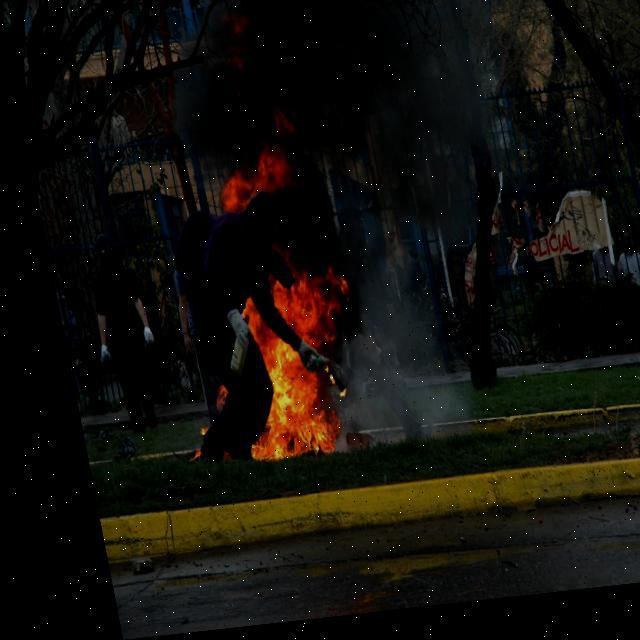Fire: (158, 99, 360, 466)
